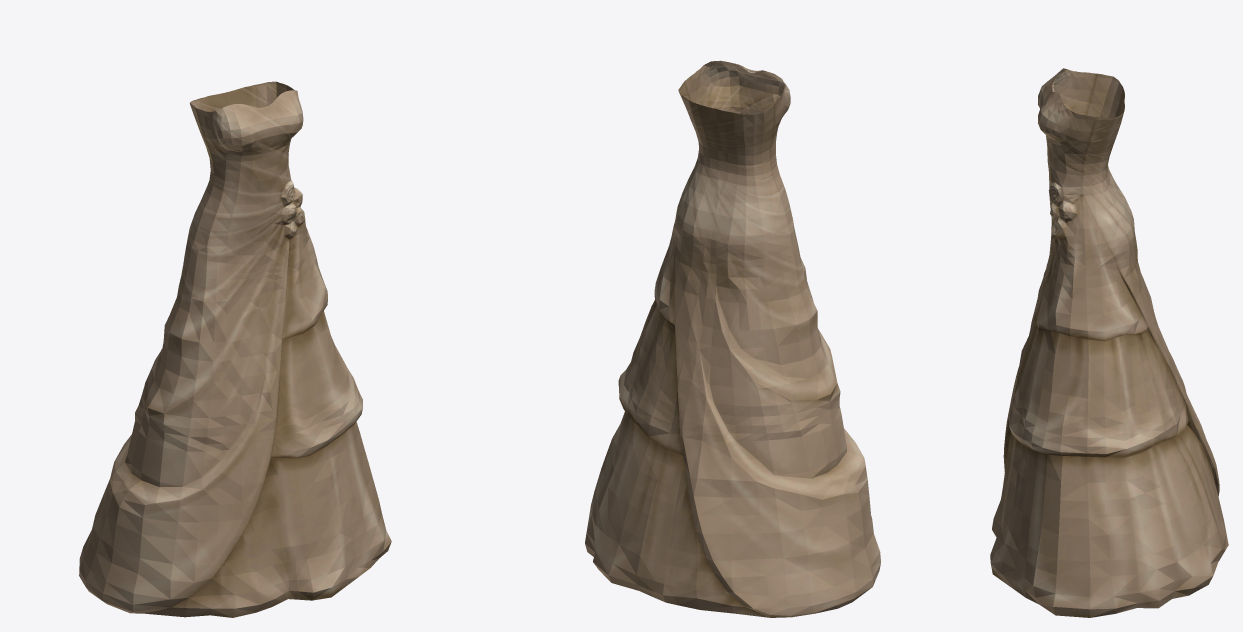
The model's file is Tiered_Wedding_Dress.obj.
3 renders of one model, left to right at view 1: azimuth 30°, elevation 25°; view 2: azimuth 150°, elevation 25°; view 3: azimuth 270°, elevation 25°, orthographic. The views are drawn at different scales.
Visible parts, largest first — view 1: s4studio_mesh_2_geom.001, s4studio_mesh_1_geom.001, s4studio_mesh_4_geom.001, s4studio_mesh_3_geom.001; view 2: s4studio_mesh_2_geom.001, s4studio_mesh_1_geom.001, s4studio_mesh_4_geom.001, s4studio_mesh_3_geom.001; view 3: s4studio_mesh_2_geom.001, s4studio_mesh_1_geom.001, s4studio_mesh_4_geom.001, s4studio_mesh_3_geom.001.
Boxes of the visible parts, bbox=[...] form: s4studio_mesh_2_geom.001: bbox=[135, 81, 362, 451]; s4studio_mesh_1_geom.001: bbox=[108, 408, 368, 522]; s4studio_mesh_4_geom.001: bbox=[79, 500, 391, 617]; s4studio_mesh_3_geom.001: bbox=[93, 462, 378, 565]; s4studio_mesh_2_geom.001: bbox=[618, 60, 841, 442]; s4studio_mesh_1_geom.001: bbox=[607, 391, 867, 515]; s4studio_mesh_4_geom.001: bbox=[585, 491, 880, 617]; s4studio_mesh_3_geom.001: bbox=[594, 453, 871, 561]; s4studio_mesh_2_geom.001: bbox=[1011, 68, 1188, 453]; s4studio_mesh_1_geom.001: bbox=[1004, 391, 1211, 518]; s4studio_mesh_4_geom.001: bbox=[990, 472, 1228, 617]; s4studio_mesh_3_geom.001: bbox=[1002, 447, 1219, 562].
Size of the model in its own units: 1.44 by 1.65 by 0.6623.
